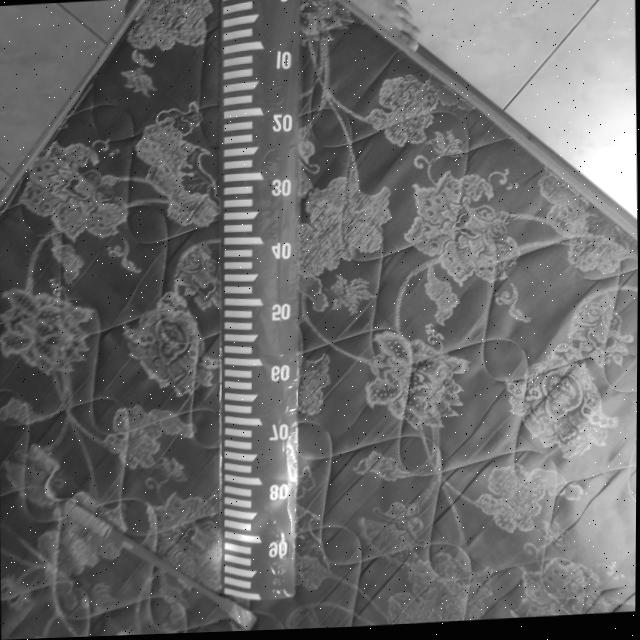water-meter: (204, 0, 321, 614)
